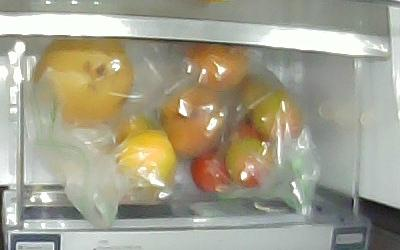peach_vinyl: (161, 88, 223, 158), (185, 42, 247, 90)
pear_vinyl: (32, 39, 134, 127)
tangerine_vinyl: (116, 130, 177, 180), (117, 115, 151, 143)
tomato_vinyl: (251, 90, 300, 143), (224, 137, 274, 188), (191, 149, 232, 194), (240, 78, 270, 121), (223, 121, 266, 144)
